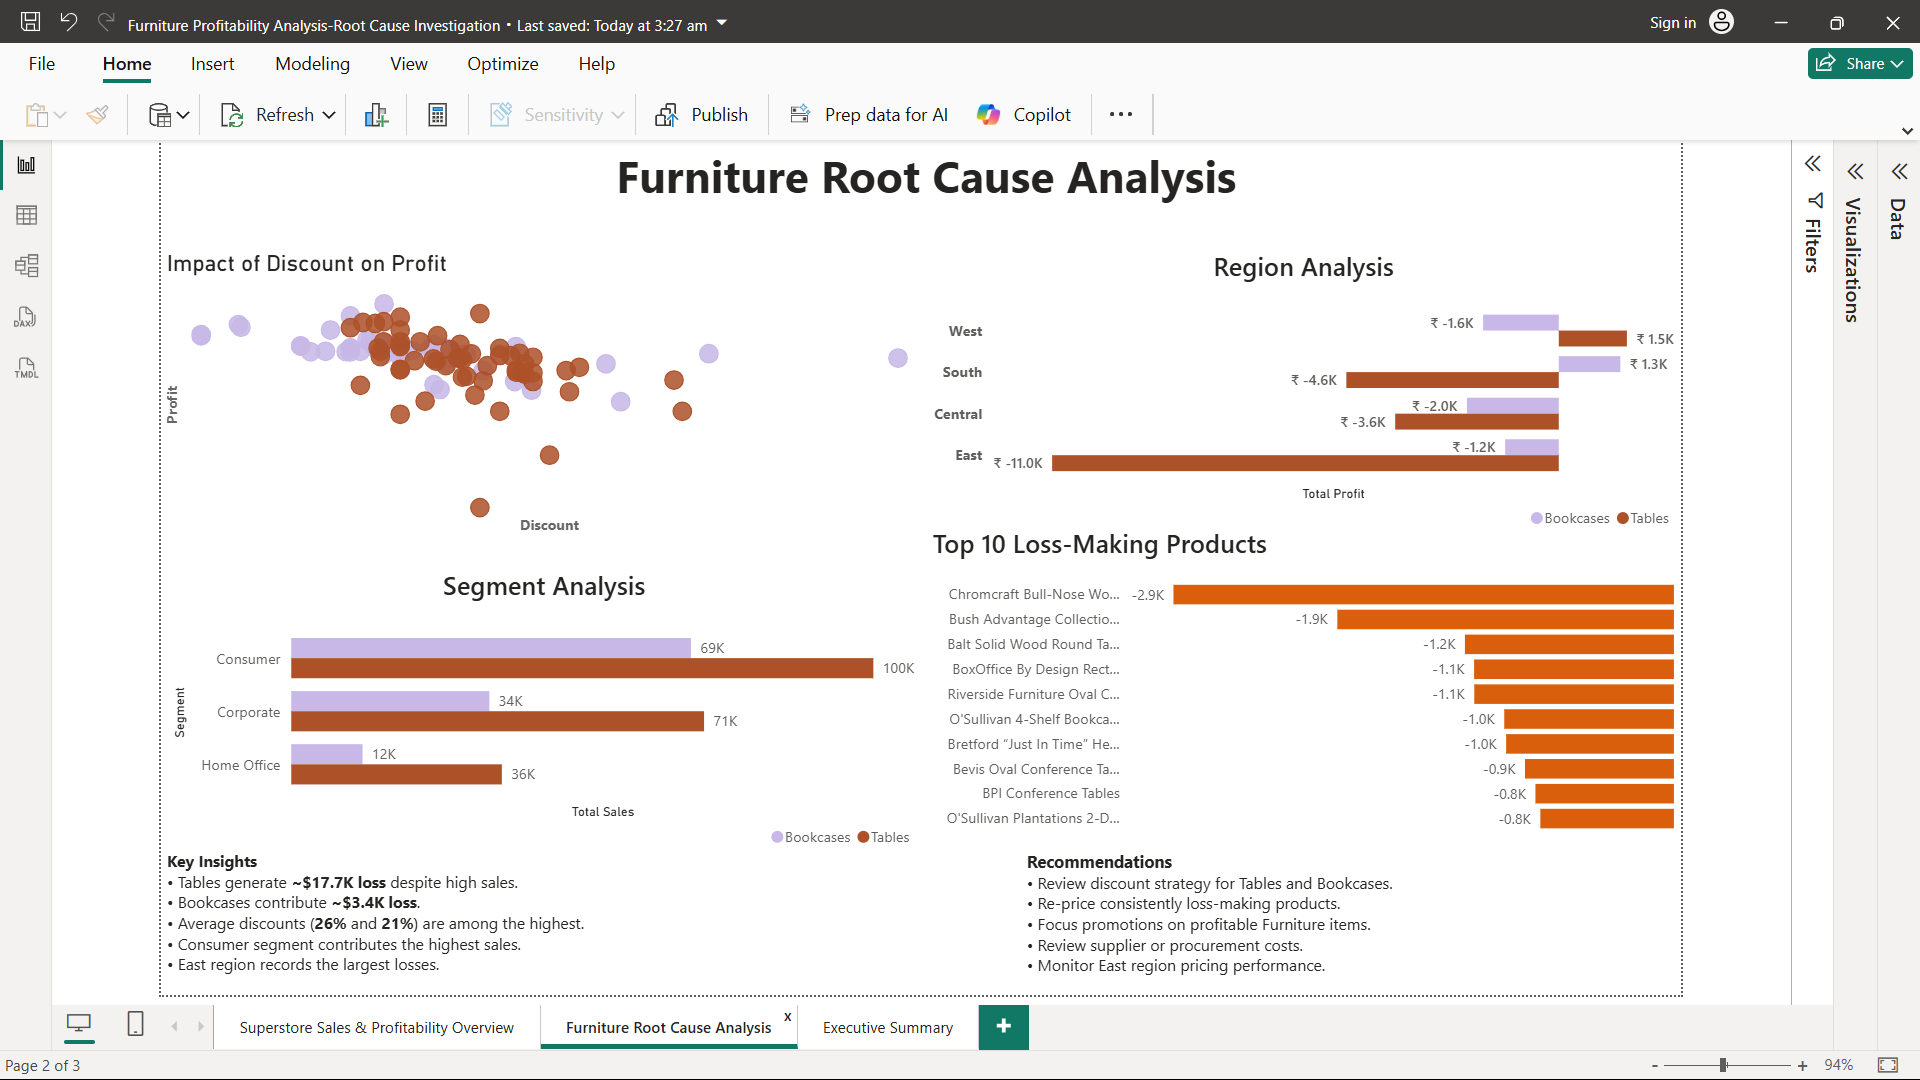

This screenshot's page, from the dashboard's own definition file:
{"tool":"powerbi","page":{"name":"Furniture Root Cause Analysis","canvas":[1280,720],"ordinal":1},"visuals":[{"type":"textbox","box":[9.7,0,1269.7,92.2],"z":0},{"type":"scatterChart","title":"Impact of Discount on Profit","fields":{"X":["Avg(Sample - Superstore.Discount)"],"Y":["Sum(Sample - Superstore.Profit)"],"Series":["Sample - Superstore.Sub-Category"],"Category":["Sample - Superstore.Product Name"]},"box":[0,92.4,634.2,244.9],"z":1},{"type":"clusteredBarChart","title":"Region Analysis","fields":{"Category":["Sample - Superstore.Region"],"Series":["Sample - Superstore.Sub-Category"],"Y":["Sample - Superstore.Total Profit"]},"box":[644.6,91.5,634.8,244.9],"z":2},{"type":"clusteredBarChart","title":"Segment Analysis","fields":{"Category":["Sample - Superstore.Segment"],"Y":["Sample - Superstore.Total Sales"],"Series":["Sample - Superstore.Sub-Category"]},"box":[5.6,360.3,634.8,244.9],"z":3},{"type":"clusteredBarChart","title":"Top 10 Loss-Making Products","fields":{"Category":["Sample - Superstore.Product Name"],"Y":["Sample - Superstore.Total Profit"]},"box":[645.1,325.5,634.4,268.5],"z":4},{"type":"textbox","box":[0,594,487.1,125.9],"z":6},{"type":"textbox","box":[724.3,593.8,422.8,125.9],"z":7}]}

Visuals, with their boxes on the page's 1280x720 design canvas (x1, y1, x2, y2). These are canvas units, not pixel positions in the 1920x1080 screenshot, which may show the page scaled, cropped or inside an application window:
textbox: (x1=10, y1=0, x2=1279, y2=92)
"Impact of Discount on Profit" scatterChart: (x1=0, y1=92, x2=634, y2=337)
"Region Analysis" clusteredBarChart: (x1=645, y1=92, x2=1279, y2=336)
"Segment Analysis" clusteredBarChart: (x1=6, y1=360, x2=640, y2=605)
"Top 10 Loss-Making Products" clusteredBarChart: (x1=645, y1=326, x2=1280, y2=594)
textbox: (x1=0, y1=594, x2=487, y2=720)
textbox: (x1=724, y1=594, x2=1147, y2=720)
